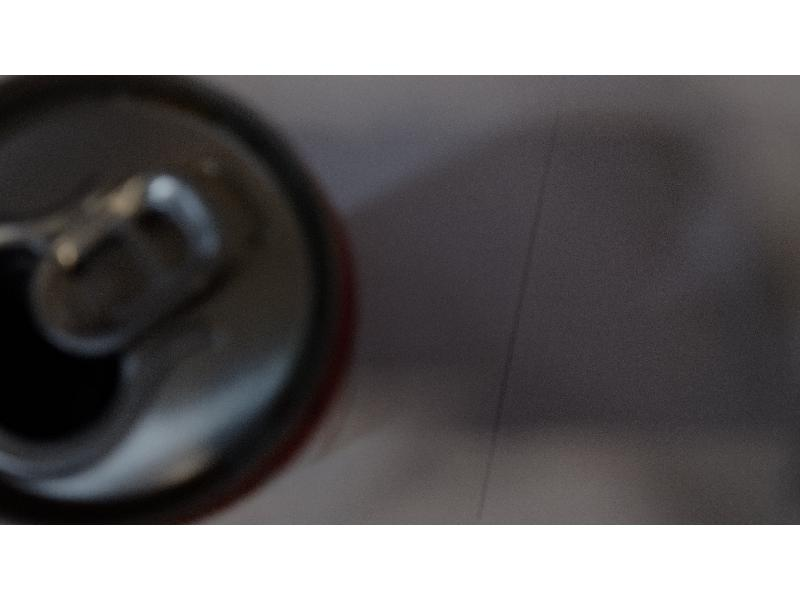can: (1, 75, 369, 522)
